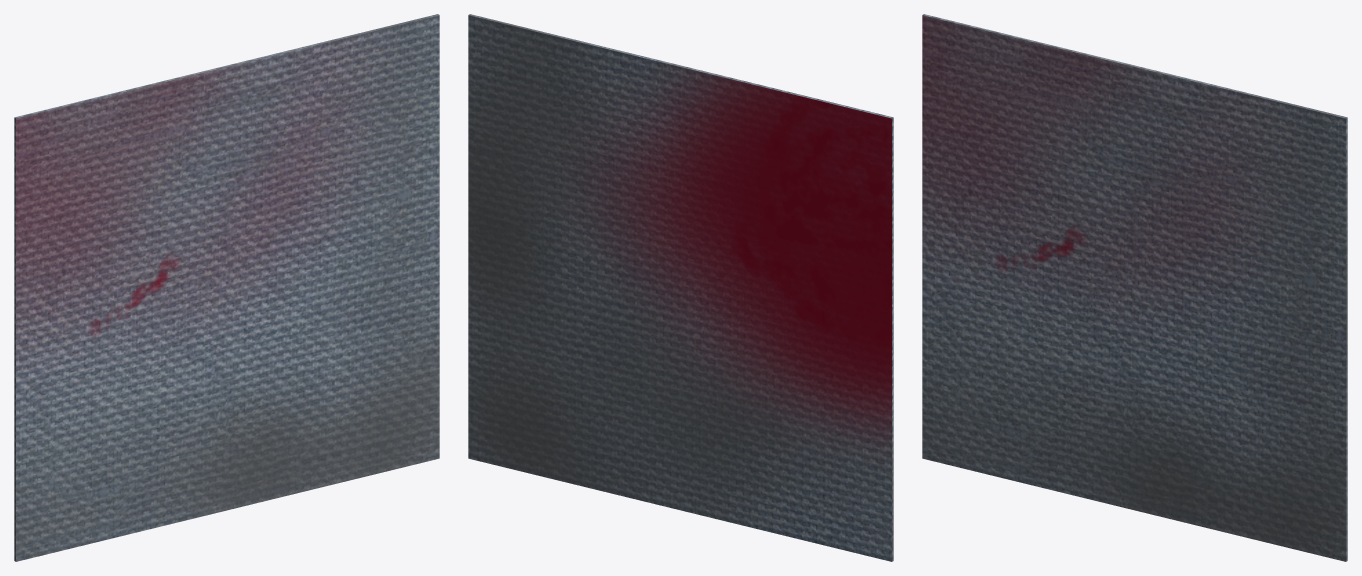
Rendered from Cloth.obj.
The picture shows the model from 3 angles, left to right: view 1: azimuth 30°, elevation 25°; view 2: azimuth 150°, elevation 25°; view 3: azimuth 330°, elevation 25°; orthographic projection.
Visible parts, largest first — view 1: Cloth; view 2: Cloth; view 3: Cloth.
Part boxes in pixels (left/top/right/bottom): Cloth: left=14, top=14, right=439, bottom=561; Cloth: left=468, top=14, right=893, bottom=561; Cloth: left=922, top=14, right=1347, bottom=561.
Bounding box in the file's own units: 0.3 × 0.3 × 0.002.
1 material, 1 textured.
